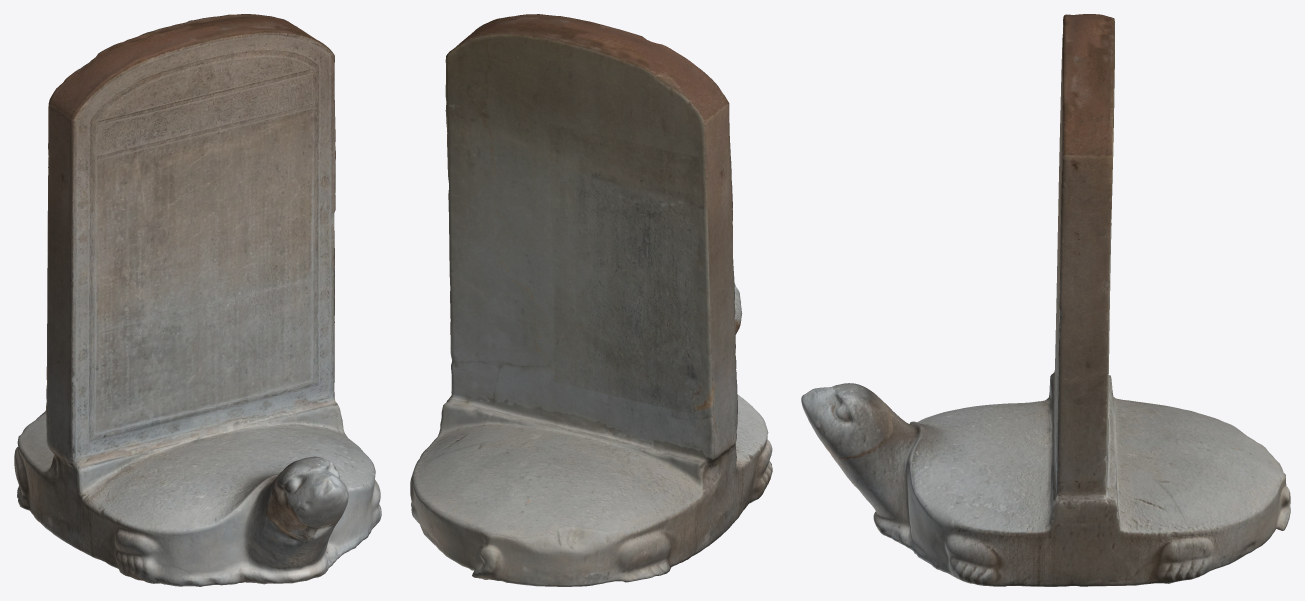
Rendered from bia-1442.glb.
3 renders of one model, left to right at view 1: azimuth 30°, elevation 25°; view 2: azimuth 150°, elevation 25°; view 3: azimuth 270°, elevation 25°, orthographic.
Parts seen in each view (by area): view 1: bake.005; view 2: bake.005; view 3: bake.005.
Part boxes in pixels (x1,y1,x2,y2): bake.005: (14,14,381,586); bake.005: (410,14,772,586); bake.005: (801,14,1290,586).
Bounding box in the file's own units: 0.5936 × 1 × 0.9238.
1 material, 1 textured.
